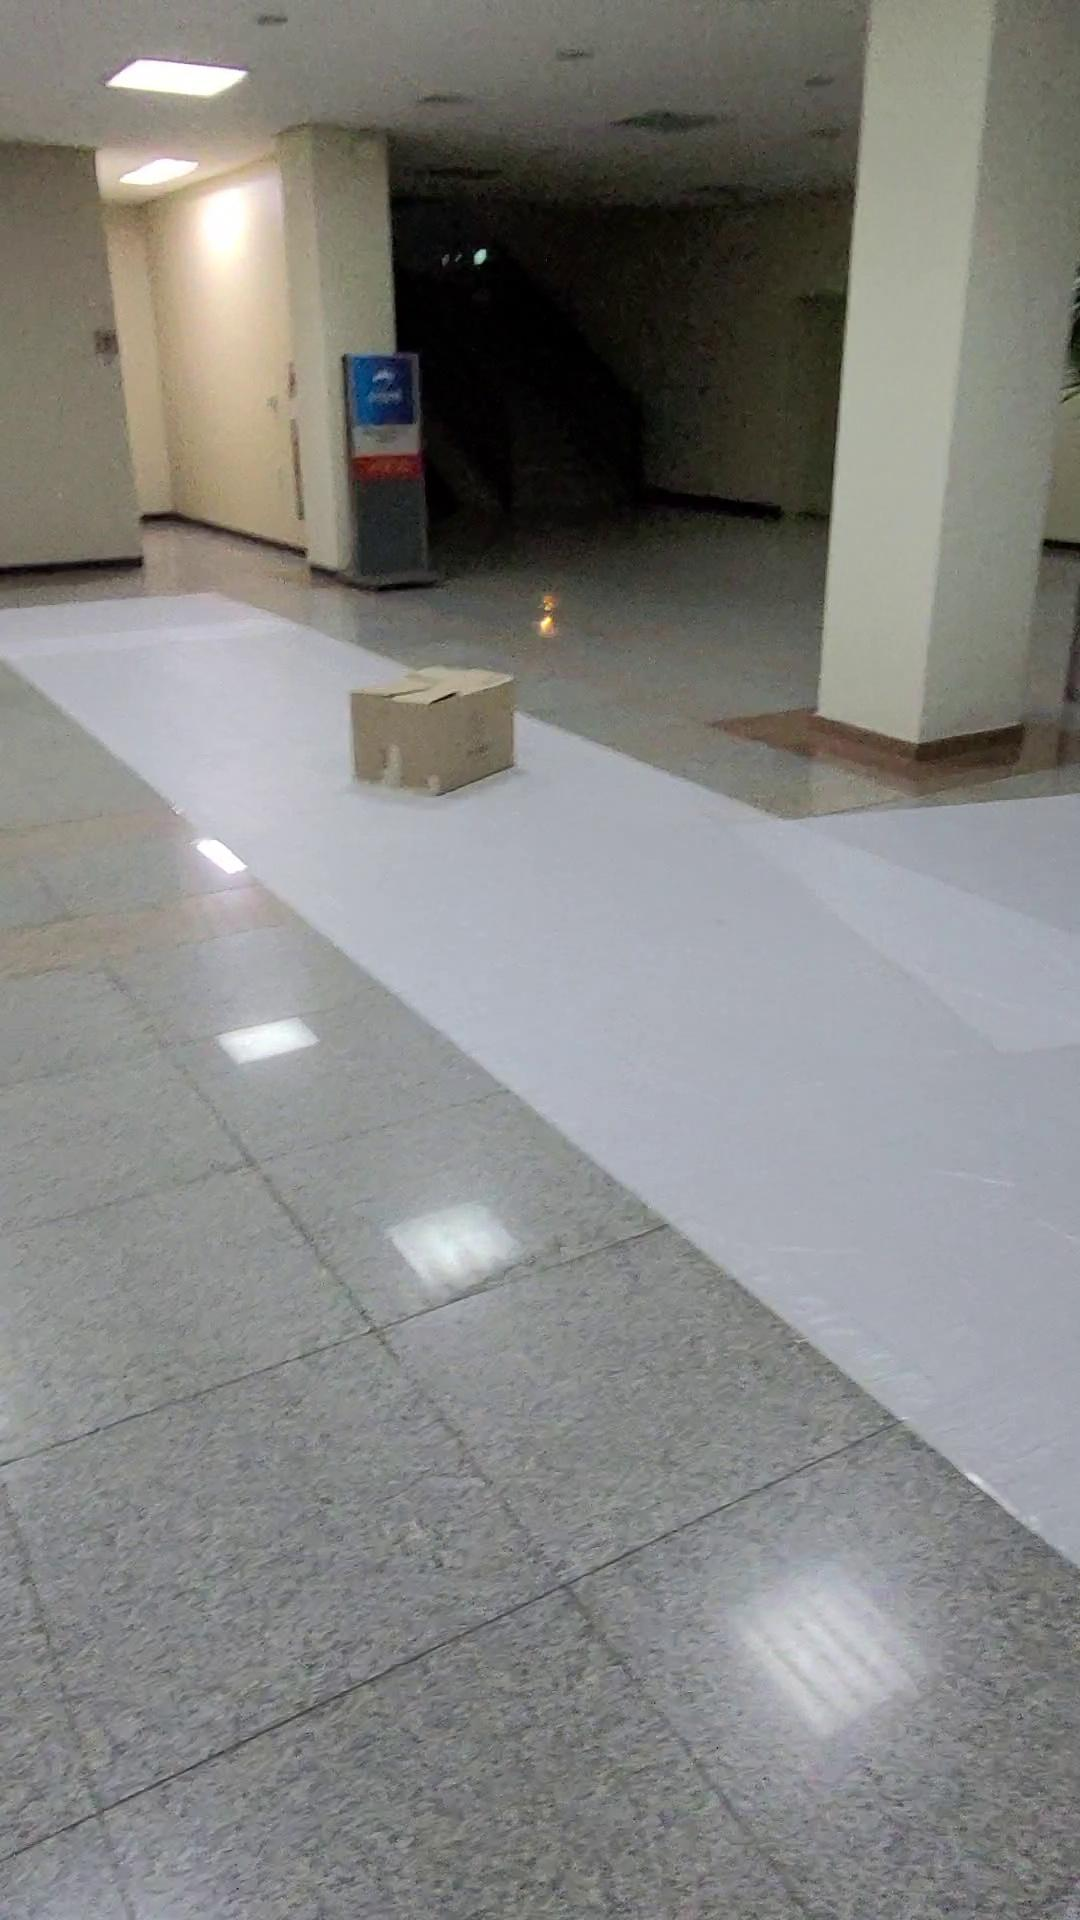Box: (320, 618, 568, 820)
